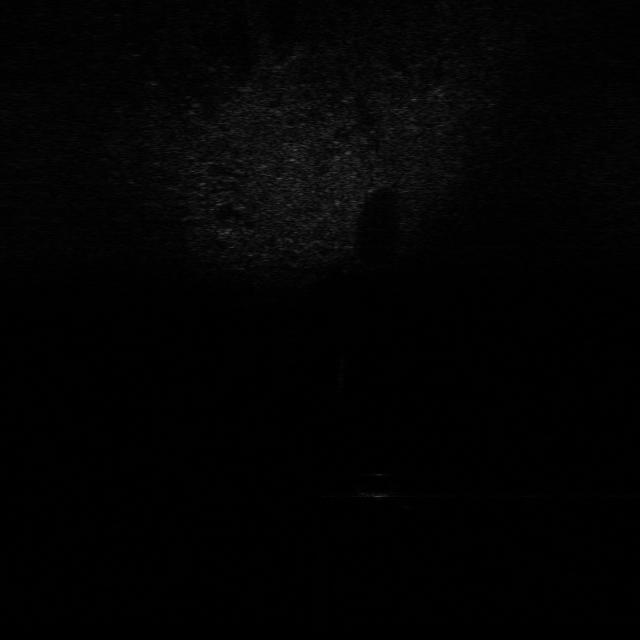ball: (348, 469, 399, 500)
